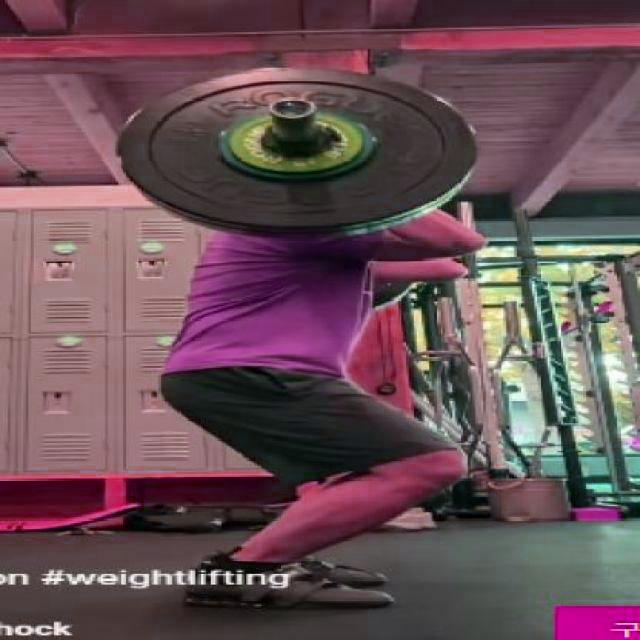barbell: (103, 61, 507, 246)
